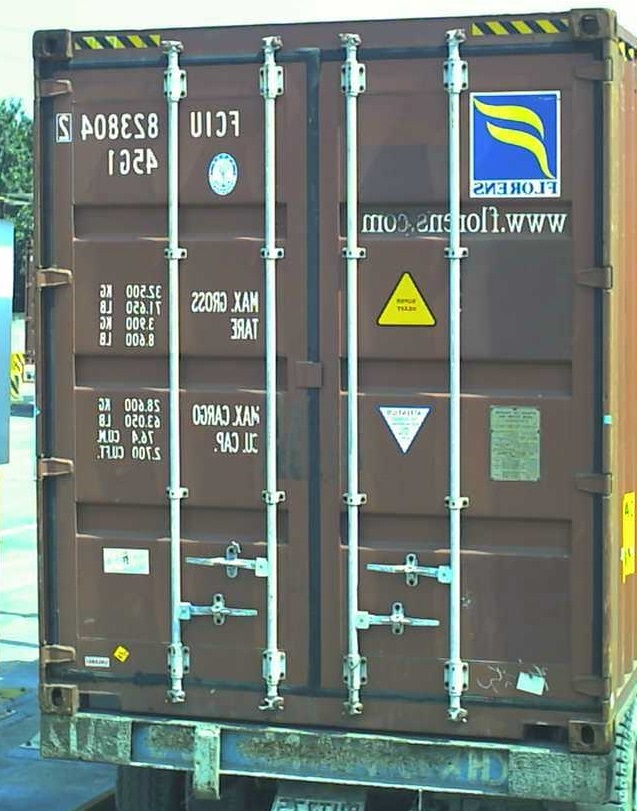container_door: (36, 9, 618, 756)
